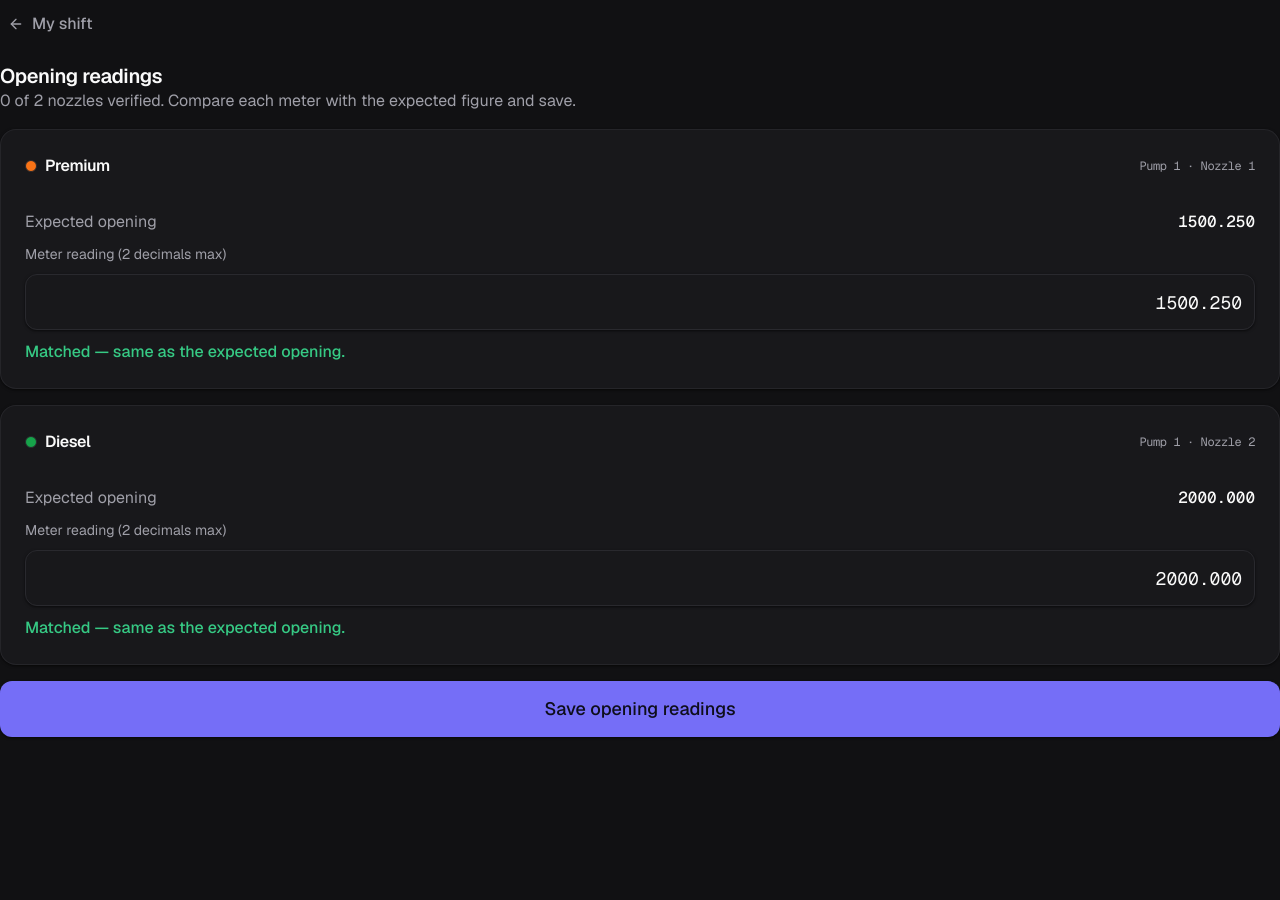
OpeningReadingsPage › reports a partial failure honestly, per nozzle, and stays on the screen
This screenshot has width=1280, height=900.
Click the button "Save opening readings" at (640, 709), box [0,681,1279,737]
(page scrolled)
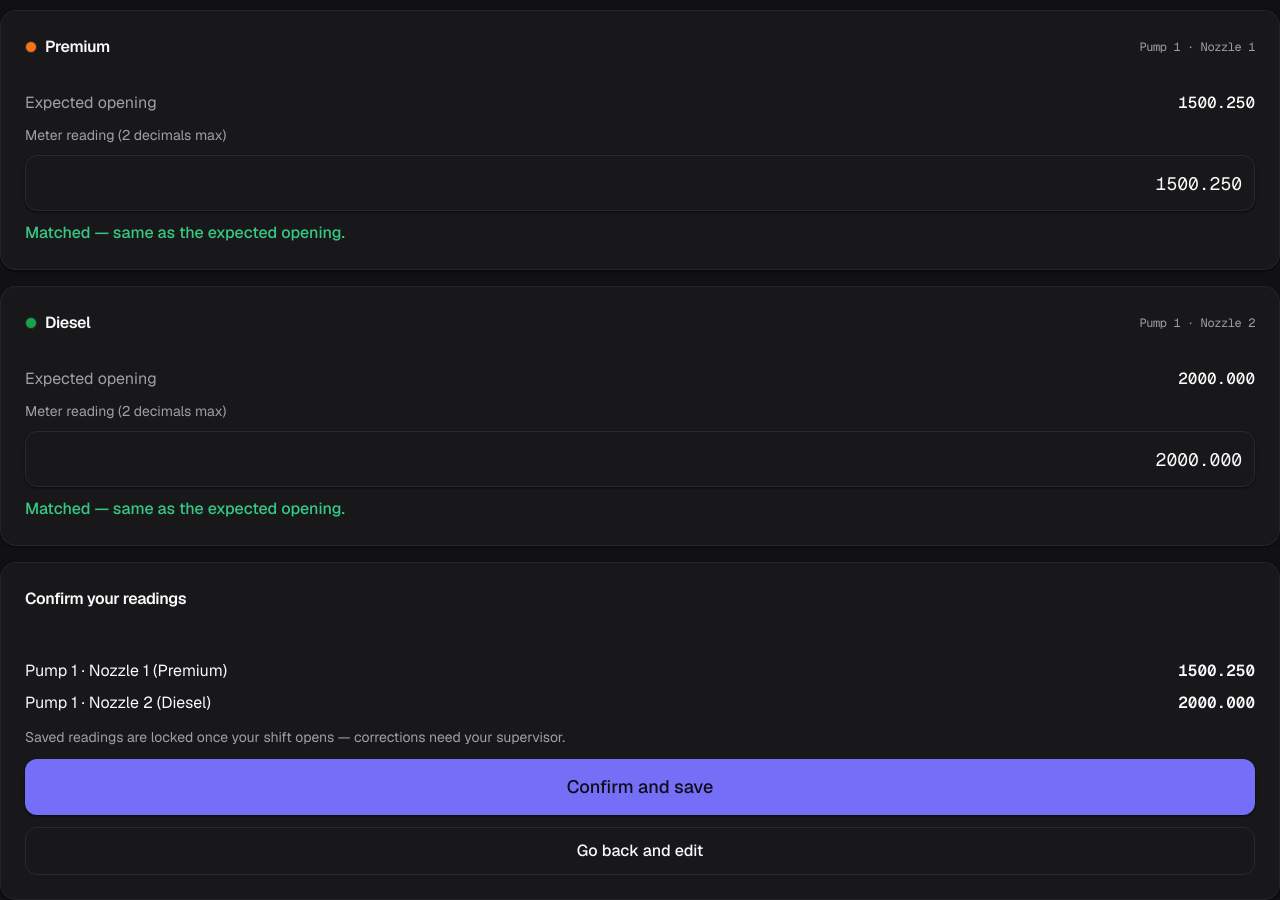
Click the button "Confirm and save" at (640, 787), box [25,759,1255,815]
(page scrolled)
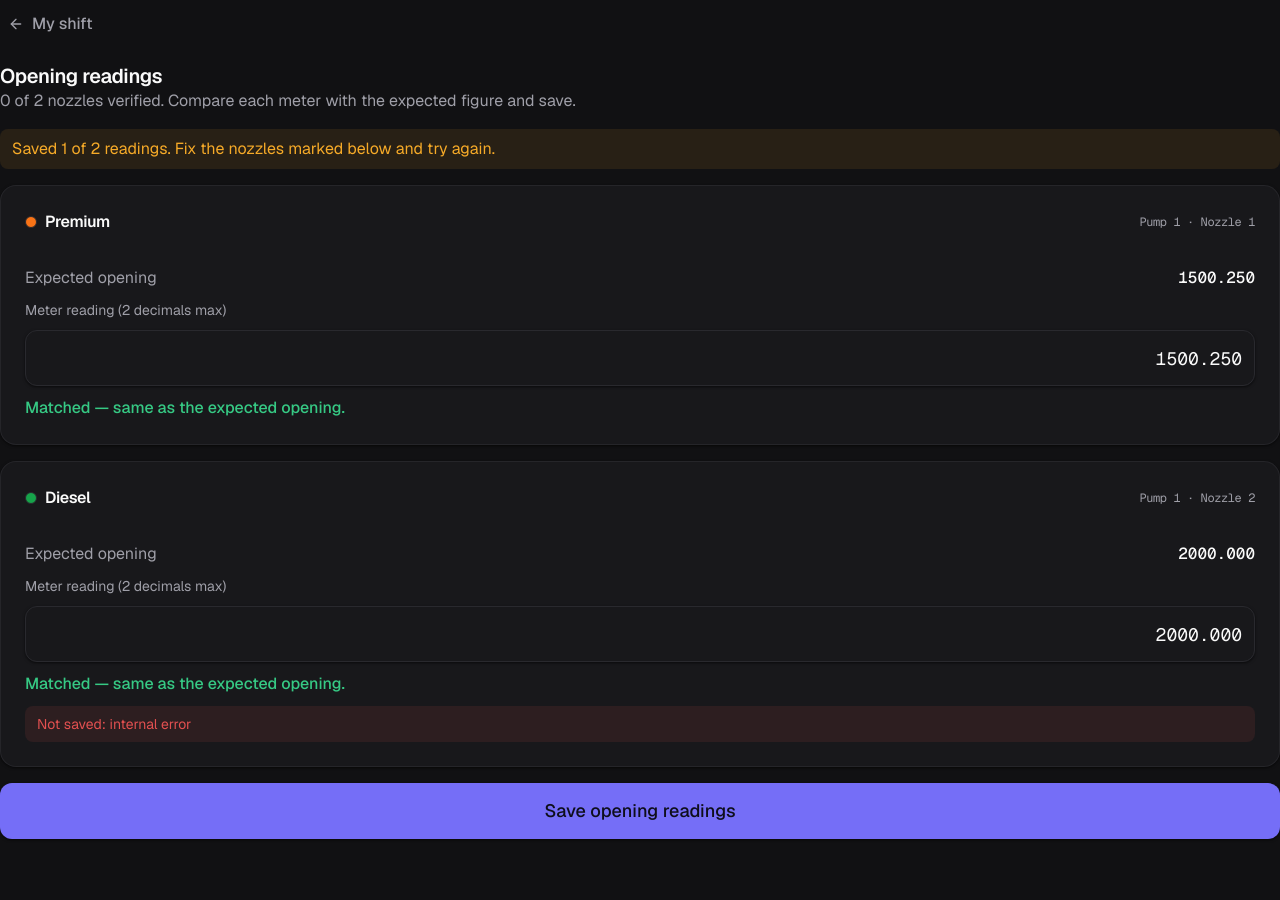
Expected: the text "Saved 1 of 2 readings. Fix the nozzles marked below and try again." is shown, [0,129,1279,169]
Expected: the text "Not saved: internal error" is shown, [25,706,1255,742]
